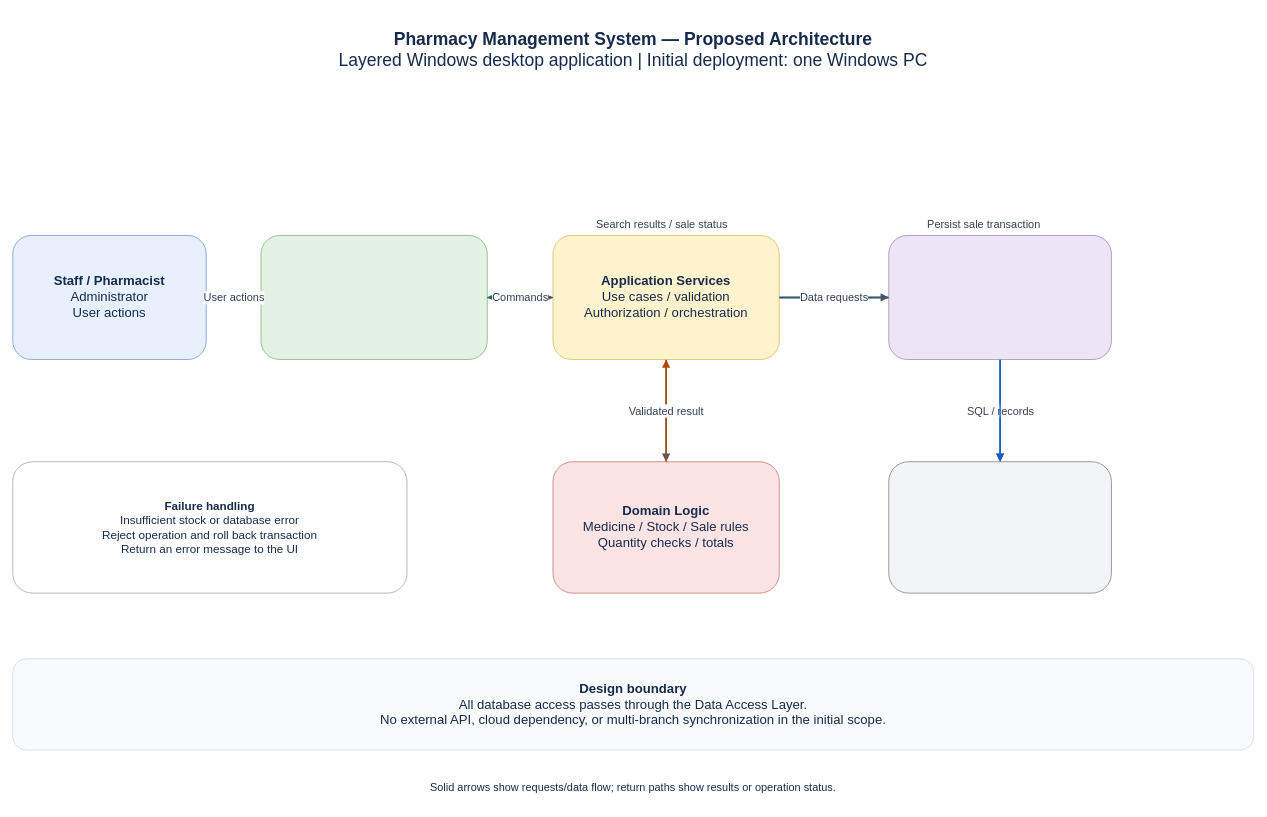
This 1267x817 diagram has some shape labels left out. The shapes that lost their labels are listed below. From the top down, each one's centre as x and y in pixels, then its label:
point 373,297: Presentation Layer WPF screens Search / Sales / Inventory
point 999,297: Data Access Layer SQLite queries Transaction handling
point 999,527: SQLite Database Medicines / Sales SaleItems / Users
